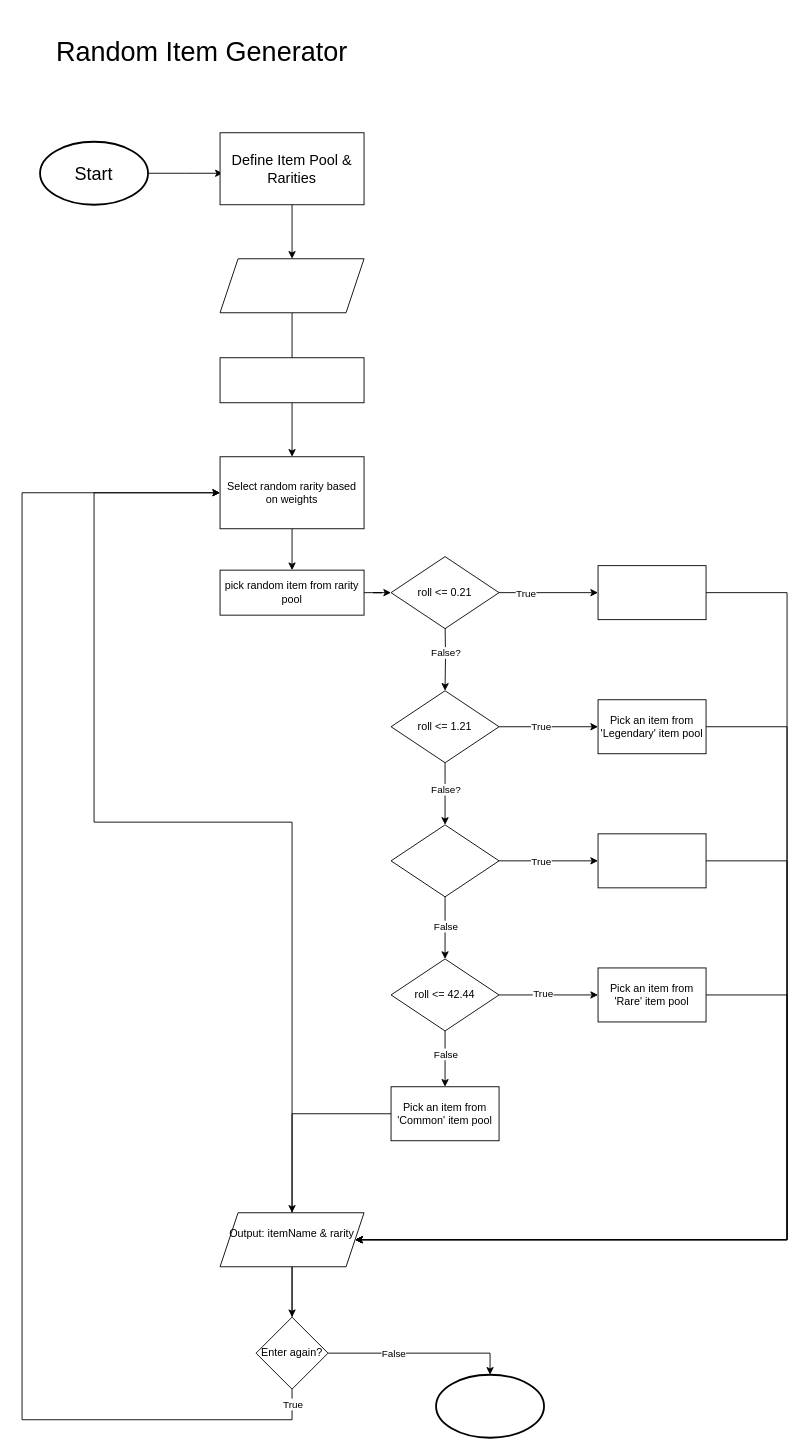
Image size: 810x1454. Some labels were removed from this diagram. The centre of each missing label's shape, as x and y in pixels:
End: the point at 489,1405
Input: Press Enter: the point at 291,285
Pick an item from 'Epic' item pool: the point at 651,860
Pick an item from 'Mythic' item pool: the point at 651,592
roll <= 11.16: the point at 444,860
roll => math.random(0, 100): the point at 291,380
